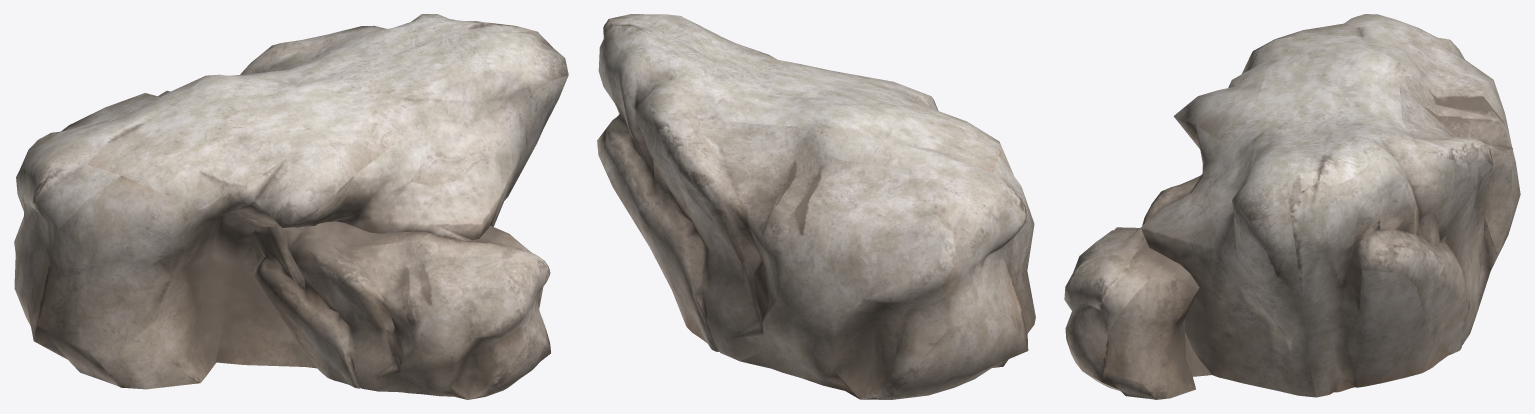
The model's file is MD_rock_04.fbx.
3 views of the same model, side by side, from view 1: azimuth 30°, elevation 25°; view 2: azimuth 150°, elevation 25°; view 3: azimuth 270°, elevation 25° (orthographic). The views are drawn at different scales.
Parts seen in each view (by area): view 1: MD_rock_04; view 2: MD_rock_04; view 3: MD_rock_04.
Part boxes in pixels (left/top/right/bottom): MD_rock_04: left=14, top=14, right=568, bottom=399; MD_rock_04: left=597, top=14, right=1035, bottom=399; MD_rock_04: left=1064, top=14, right=1520, bottom=399.
Size of the model in its own units: 1693 by 862 by 1355.
Materials: 1 (1 with a texture image).
